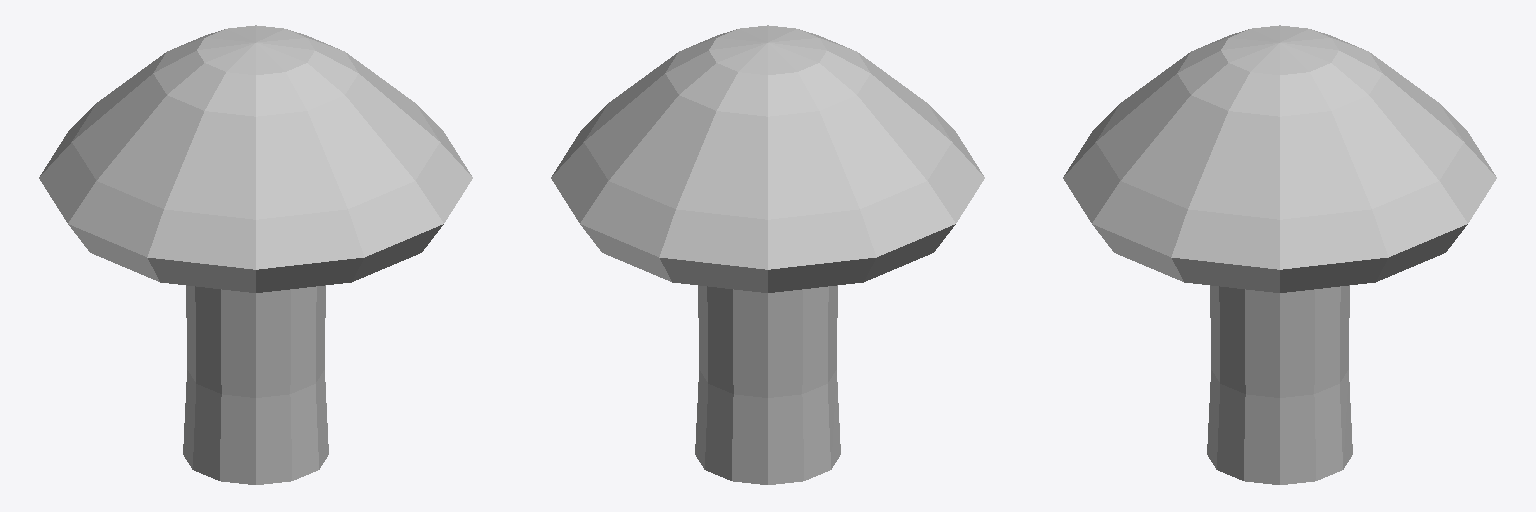
The model's file is Mushroom_Grey.obj.
3 views of the same model, side by side, from view 1: azimuth 30°, elevation 25°; view 2: azimuth 150°, elevation 25°; view 3: azimuth 270°, elevation 25° (orthographic).
Visible parts, largest first — view 1: Sphere.019_Sphere.027; view 2: Sphere.019_Sphere.027; view 3: Sphere.019_Sphere.027.
Part boxes in pixels (left/top/right/bottom): Sphere.019_Sphere.027: left=39, top=25, right=472, bottom=484; Sphere.019_Sphere.027: left=551, top=25, right=984, bottom=484; Sphere.019_Sphere.027: left=1063, top=25, right=1496, bottom=484.
Bounding box in the file's own units: 0.1277 × 0.1384 × 0.1277.